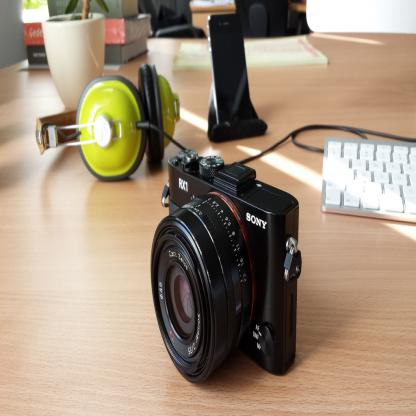Camera: (151, 147, 299, 386)
